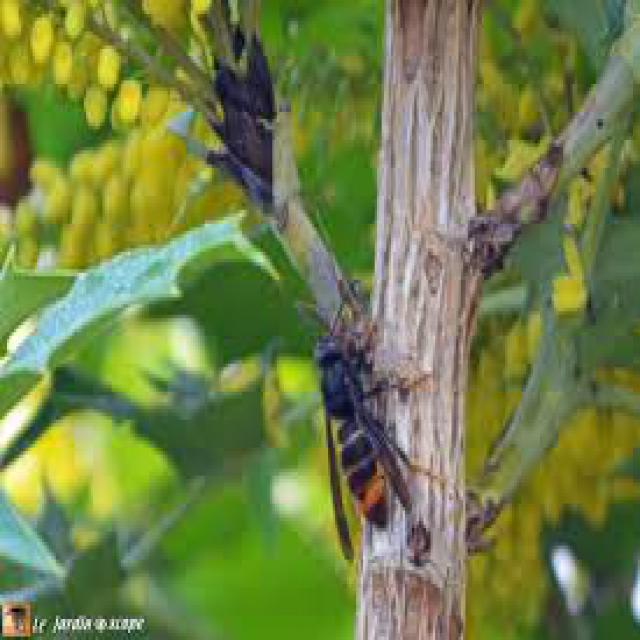Vespa Velutina: (298, 273, 451, 573)
